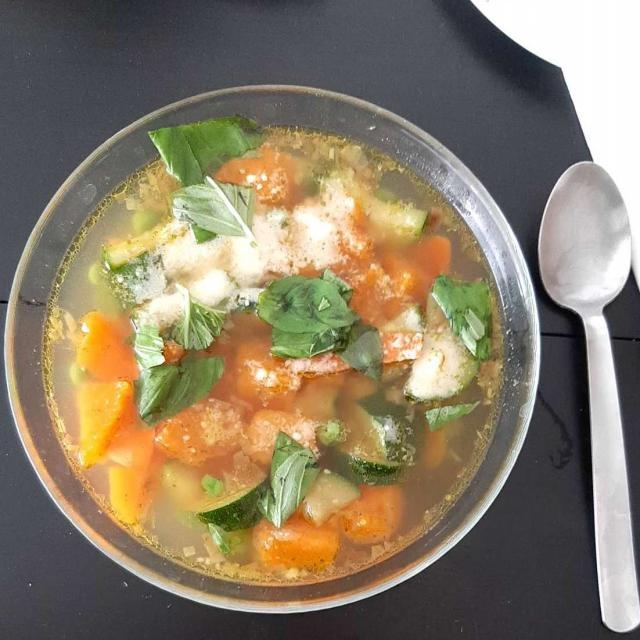cheese: (119, 211, 358, 346)
soup: (46, 144, 497, 576)
